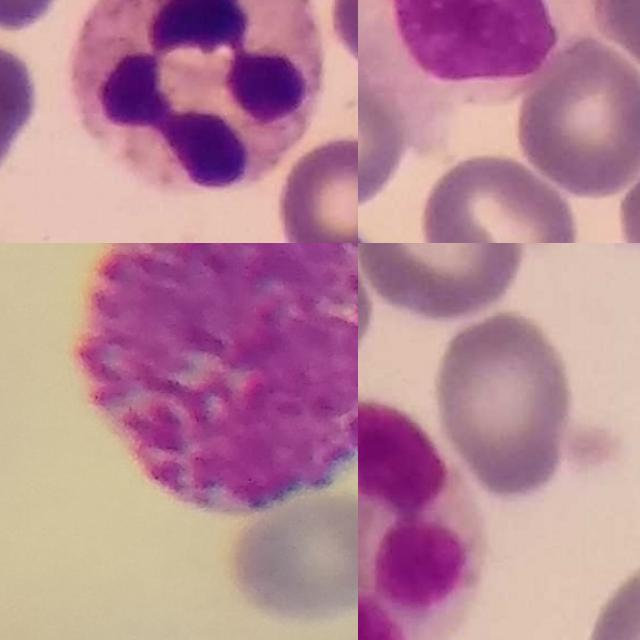Basophil: (75, 243, 358, 518)
Eosinophil: (358, 389, 479, 640)
Monocyte: (358, 0, 617, 132)
Neutrophil: (74, 0, 325, 191)
